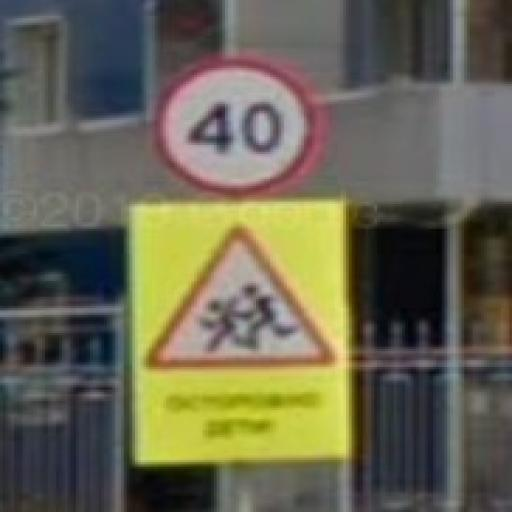traffic_sign: (145, 225, 339, 373), (156, 58, 322, 196)
